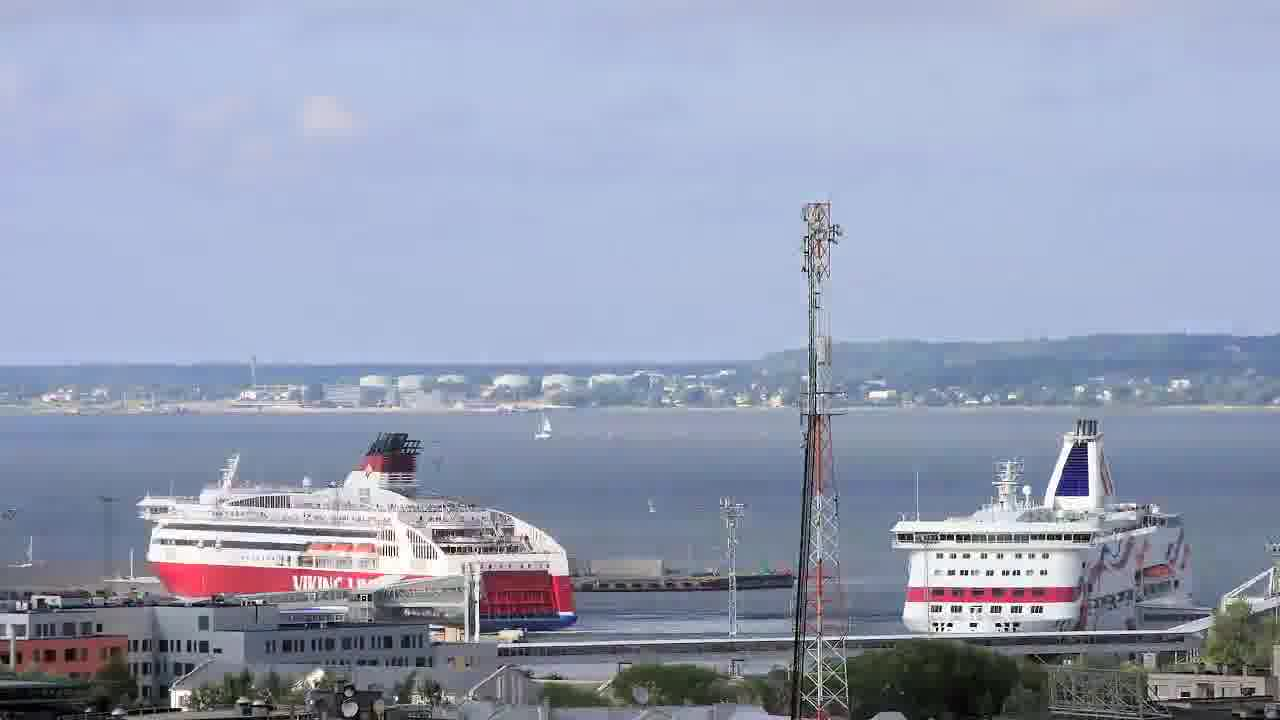type-2: (520, 400, 573, 454)
type-3: (133, 443, 579, 625), (868, 415, 1225, 638)
